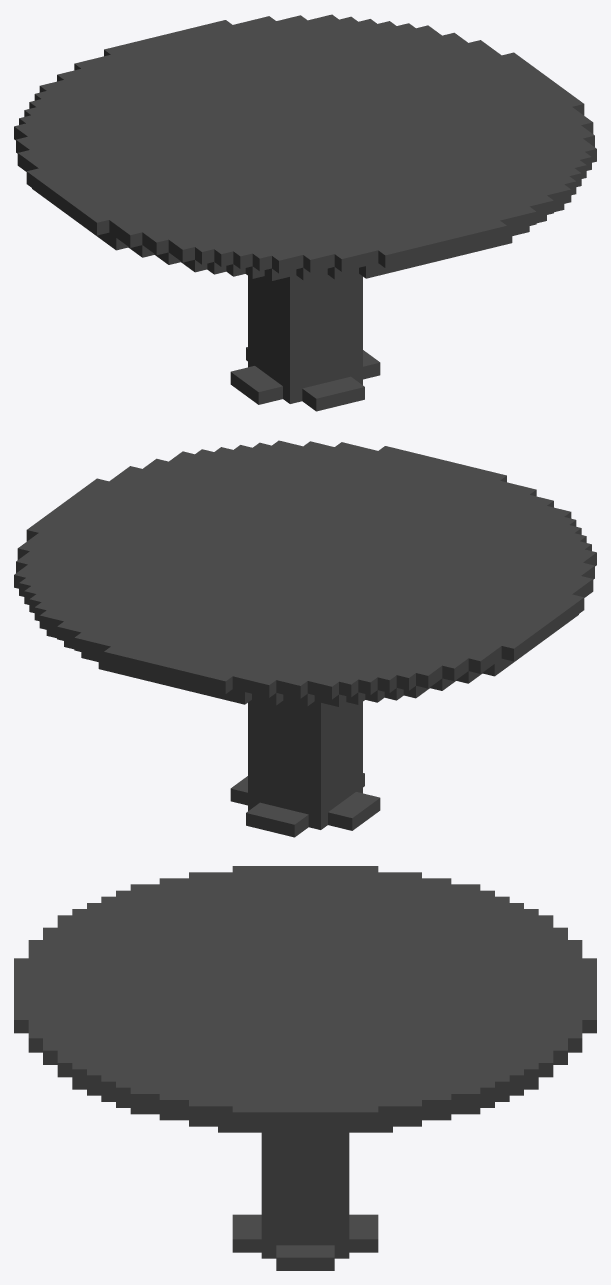
Rendered from Table.obj.
The picture shows the model from 3 angles, top to bottom: view 1: azimuth 30°, elevation 25°; view 2: azimuth 150°, elevation 25°; view 3: azimuth 270°, elevation 25°; orthographic projection. The views are drawn at different scales.
Bounding box in the file's own units: 4 × 1.9 × 4.
